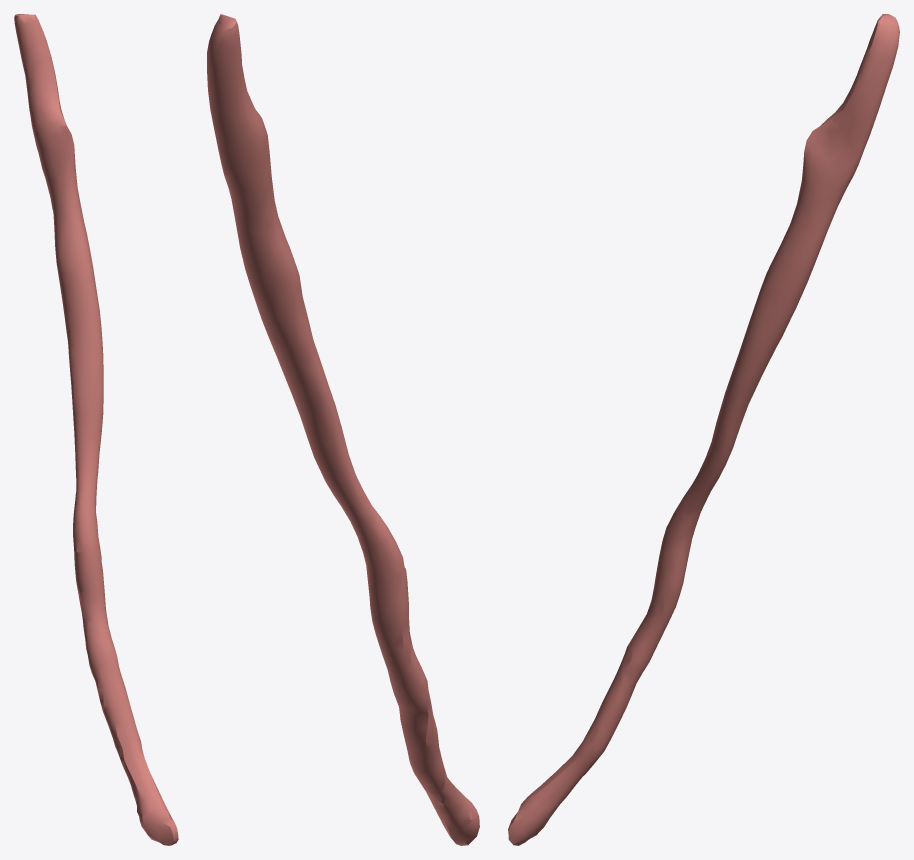
Rendered from fma40780_mm1974.glb.
3 views of the same model, side by side, from view 1: azimuth 30°, elevation 25°; view 2: azimuth 150°, elevation 25°; view 3: azimuth 270°, elevation 25° (orthographic). The views are drawn at different scales.
Parts seen in each view (by area): view 1: FMA40780_MM1974; view 2: FMA40780_MM1974; view 3: FMA40780_MM1974.
Part boxes in pixels (x1=…): FMA40780_MM1974: x1=14, y1=14, x2=178, y2=845; FMA40780_MM1974: x1=207, y1=14, x2=479, y2=845; FMA40780_MM1974: x1=508, y1=14, x2=899, y2=845.
Bounding box in the file's own units: 0.0114 × 0.1198 × 0.0509.
